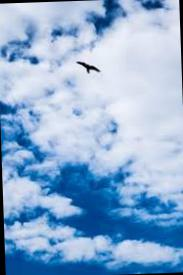bird: (69, 52, 103, 78)
